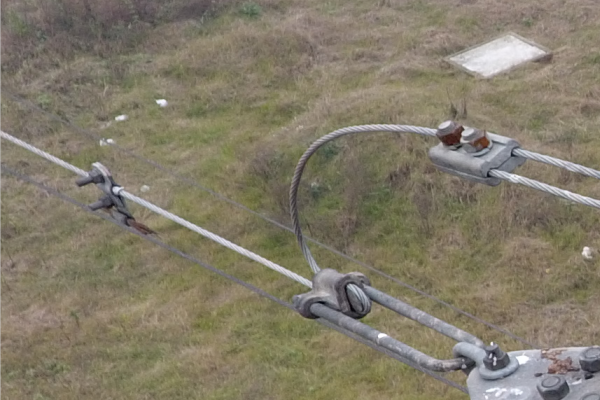damper_defect: (71, 160, 156, 239)
